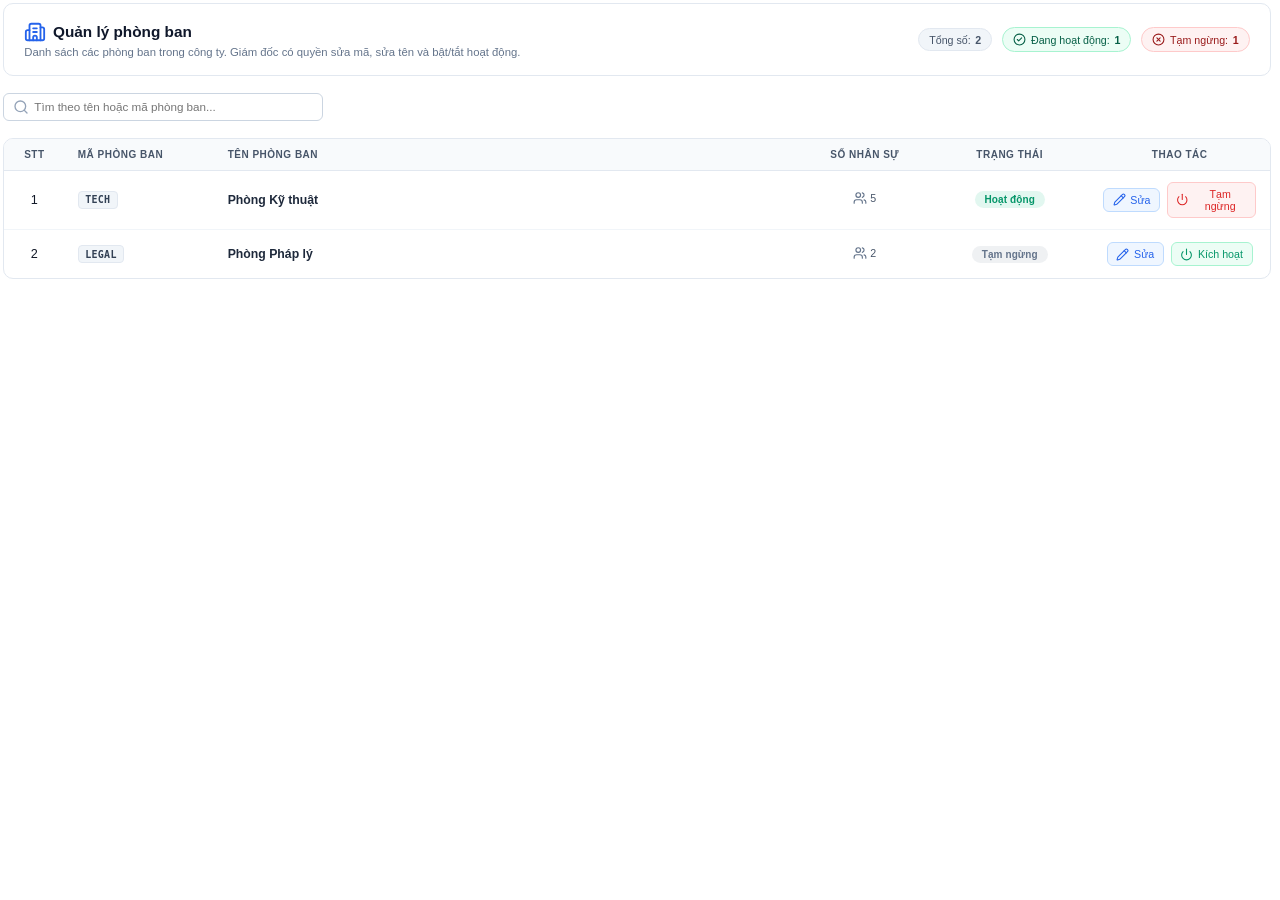
Test case: DepartmentManagement component › displays order range and warns when deactivating department with employees
Expected: the text "Phòng Kỹ thuật" is shown, [228,193,318,207]
Click the button with aria-label "Sửa phòng ban Phòng Kỹ thuật" at x=1132, y=200, box [1103,188,1160,212]
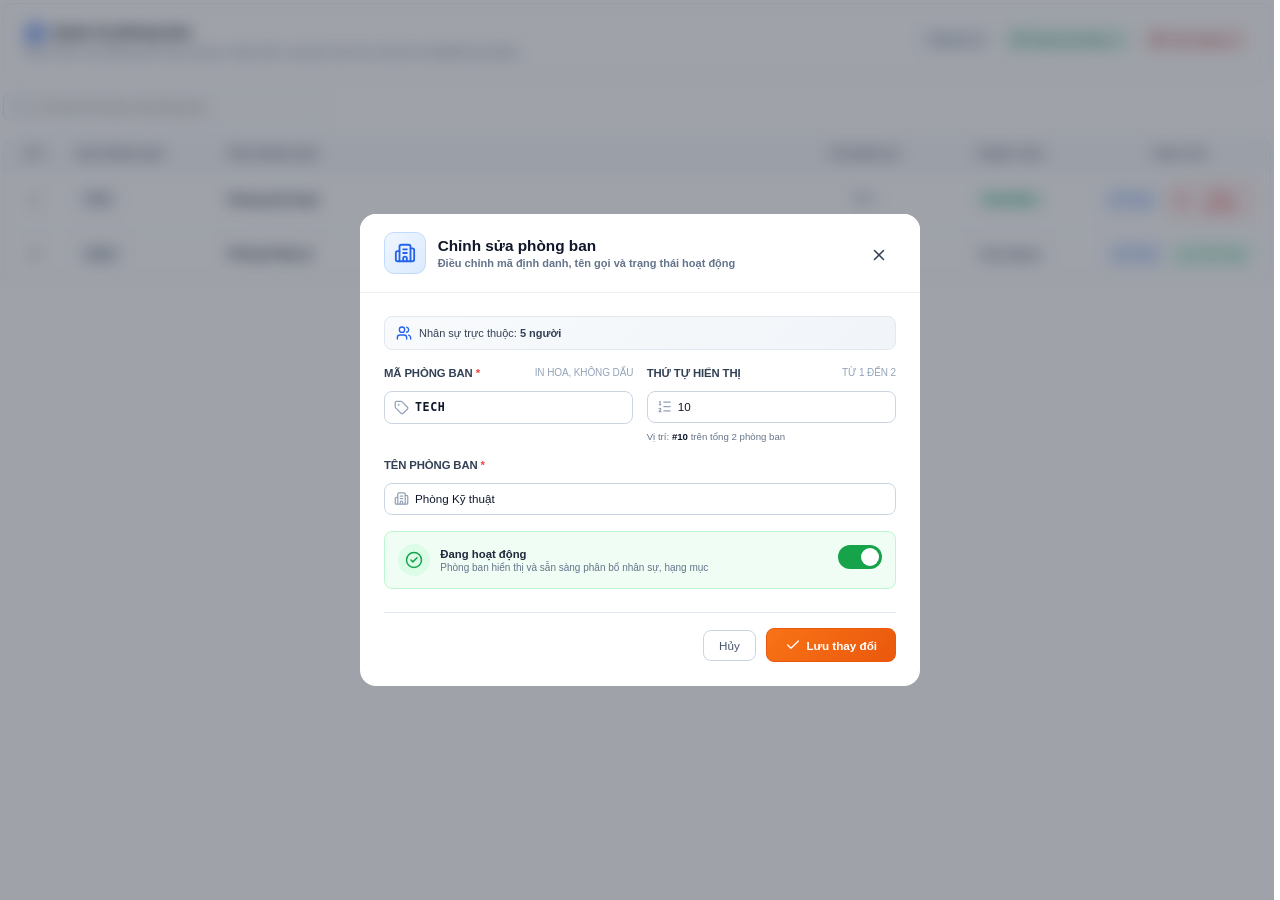
Now the text "Từ 1 đến 2" is shown, box [842,367,896,378]
Now the checkbox named "Bật tắt trạng thái hoạt động" is checked
Click the checkbox named "Bật tắt trạng thái hoạt động" at x=860, y=557, box [838,545,882,569]
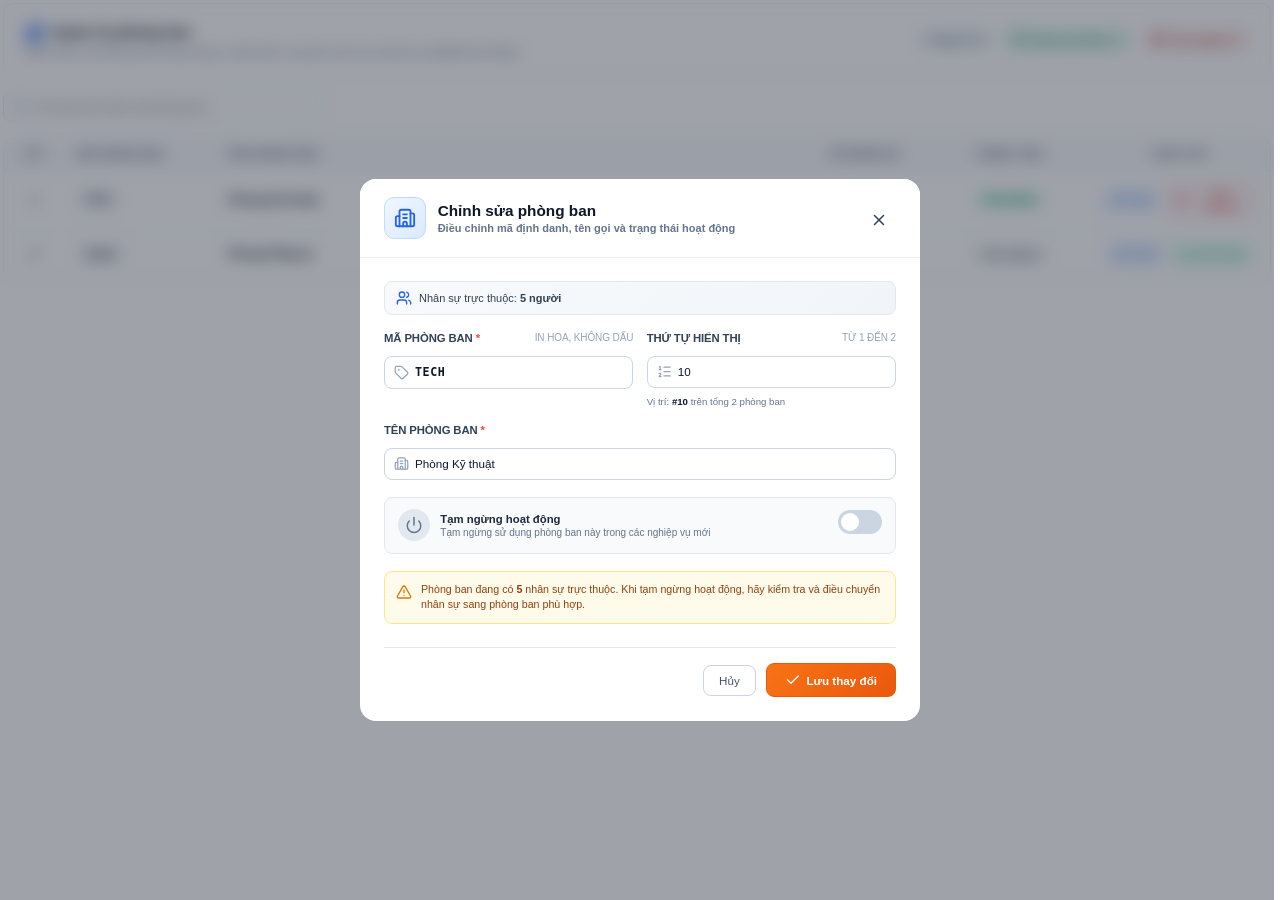
Now the checkbox named "Bật tắt trạng thái hoạt động" is not checked, box [838,510,882,534]
Now the text "Phòng ban đang có" is shown, box [421,583,516,595]
